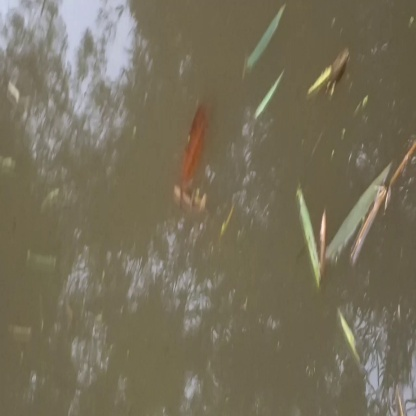leaf: (286, 159, 394, 291), (172, 98, 213, 201)
